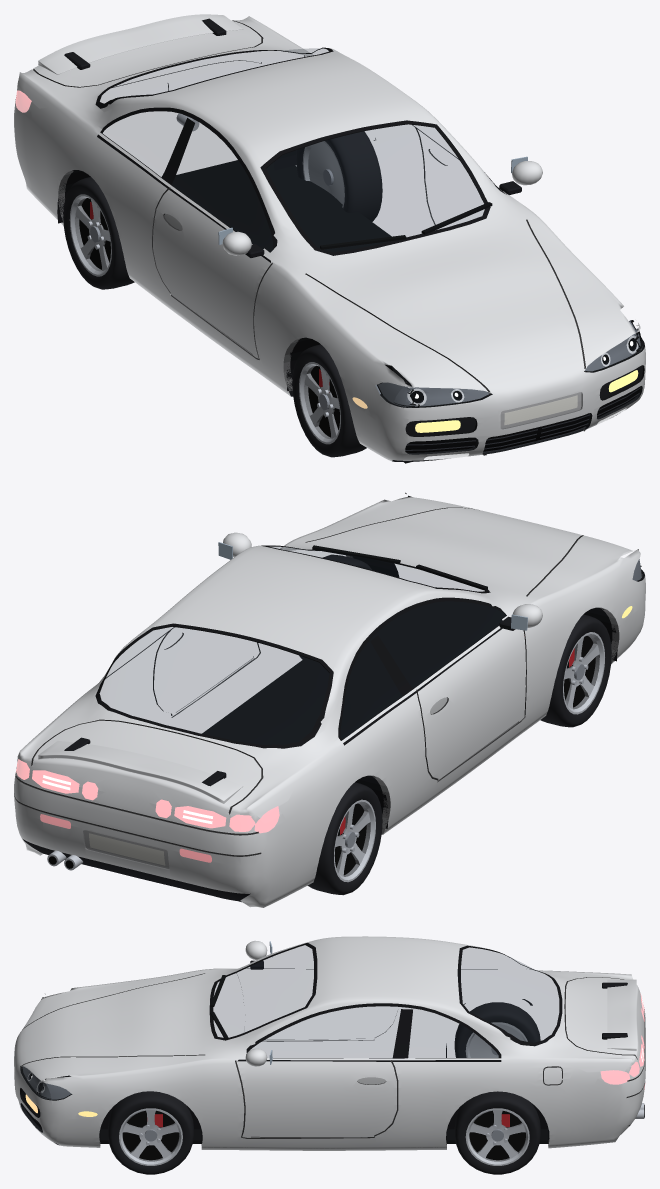
The model's file is car_s14_white.glb.
3 renders of one model, top to bottom at view 1: azimuth 30°, elevation 25°; view 2: azimuth 150°, elevation 25°; view 3: azimuth 270°, elevation 25°, orthographic. The views are drawn at different scales.
Visible parts, largest first — view 1: body, wheel_fl, wheel_rl, wheel_rr; view 2: body, wheel_rl, wheel_fl; view 3: body, wheel_rr, wheel_fr, wheel_rl.
Part boxes in pixels (x1,y1,x2,y2): body: (14,14,645,463); wheel_fl: (292,344,366,457); wheel_rl: (63,177,134,289); wheel_rr: (296,131,382,221); body: (14,492,645,907); wheel_rl: (307,782,382,895); wheel_fl: (540,614,611,727); body: (14,936,645,1150); wheel_rr: (454,1091,540,1174); wheel_fr: (108,1091,193,1174); wheel_rl: (454,1002,540,1057).
Bounding box in the file's own units: 2 × 1.31 × 4.58.
